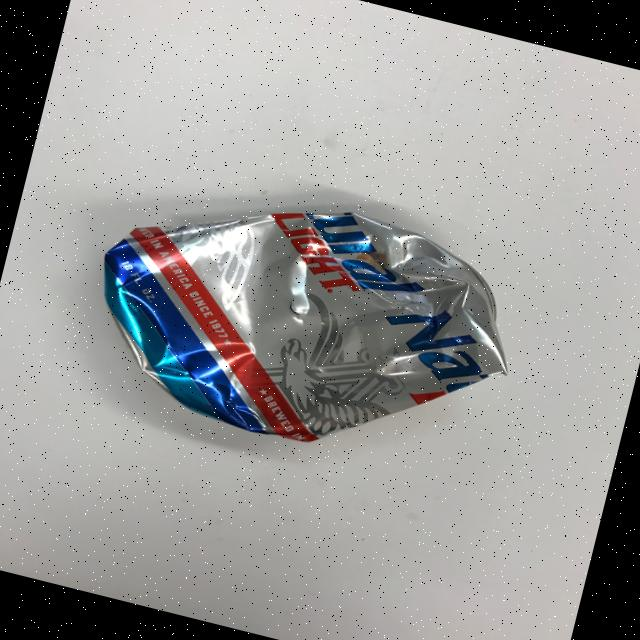metal: (70, 154, 537, 489)
